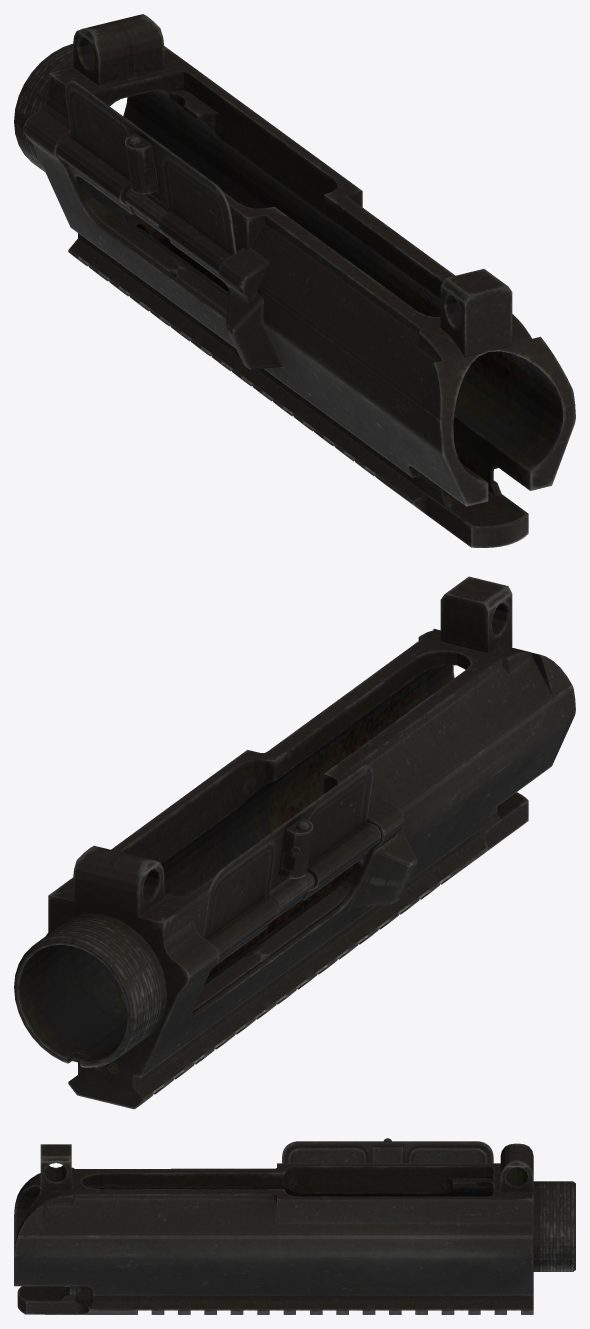
3 renders of one model, top to bottom at view 1: azimuth 30°, elevation 25°; view 2: azimuth 150°, elevation 25°; view 3: azimuth 270°, elevation 25°, orthographic. The views are drawn at different scales.
Parts seen in each view (by area): view 1: TW_606587a88900dc2d9a55b659_PZ_Import; view 2: TW_606587a88900dc2d9a55b659_PZ_Import; view 3: TW_606587a88900dc2d9a55b659_PZ_Import.
Boxes of the visible parts, x1,y1,x2,y2 form: TW_606587a88900dc2d9a55b659_PZ_Import: (14,14,575,547); TW_606587a88900dc2d9a55b659_PZ_Import: (14,576,575,1109); TW_606587a88900dc2d9a55b659_PZ_Import: (14,1138,575,1314).
Bounding box in the file's own units: 0.0261 × 0.123 × 0.0375.
1 material, 1 textured.
